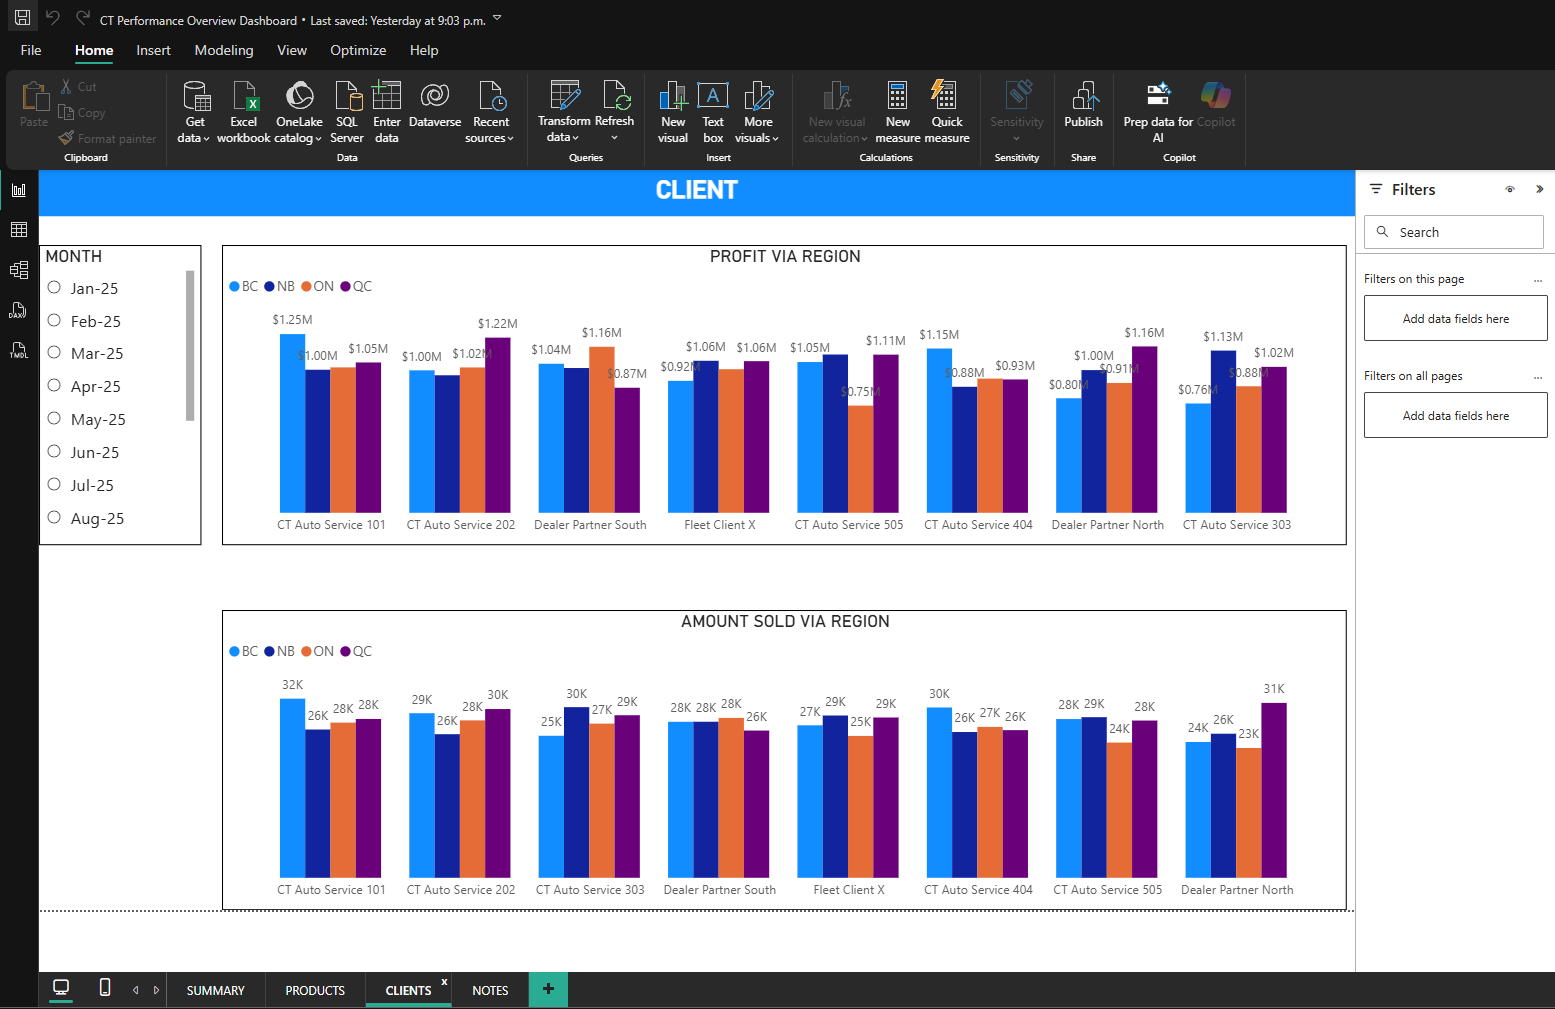

The page's visual inventory and layout, read from the dashboard file:
{"tool":"powerbi","page":{"name":"CLIENTS","canvas":[1280,720],"ordinal":2},"visuals":[{"type":"textbox","box":[0,0,1280,44.7],"z":0},{"type":"clusteredColumnChart","title":"PROFIT VIA REGION","fields":{"Category":["RAW DATA.CLIENT_NAME"],"Y":["Sum(RAW DATA.PROFIT)"],"Series":["RAW DATA.REGION"]},"box":[178,72.9,1094.2,291.8],"z":1000},{"type":"listSlicer","title":"MONTH","fields":{"Values":["RAW DATA.MONTH_YR_Display"]},"box":[0,72.9,157.6,291.8],"z":2000},{"type":"clusteredColumnChart","title":"AMOUNT SOLD VIA REGION","fields":{"Category":["RAW DATA.CLIENT_NAME"],"Series":["RAW DATA.REGION"],"Y":["Sum(RAW DATA.UNITS_SOLD)"]},"box":[178,428,1094.2,291.8],"z":2001}]}

Visuals, with their boxes on the page's 1280x720 design canvas (x1, y1, x2, y2). These are canvas units, not pixel positions in the 1555x1009 screenshot, which may show the page scaled, cropped or inside an application window:
textbox: [0,0,1280,45]
"PROFIT VIA REGION" clusteredColumnChart: [178,73,1272,365]
"MONTH" listSlicer: [0,73,158,365]
"AMOUNT SOLD VIA REGION" clusteredColumnChart: [178,428,1272,720]
